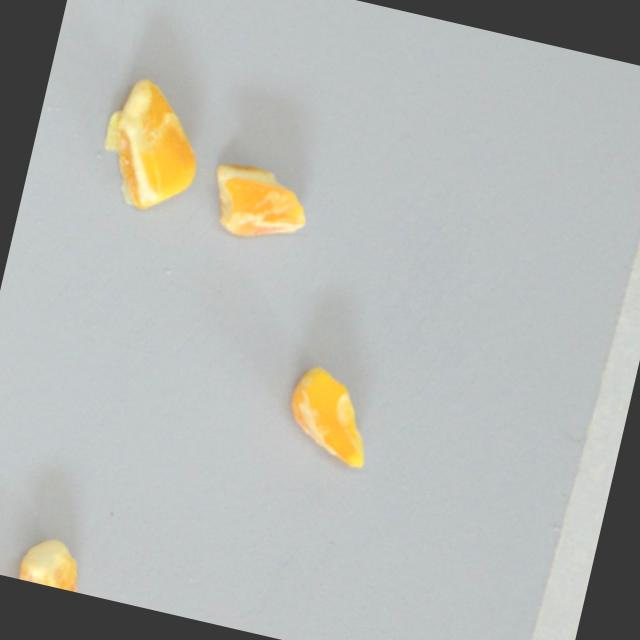pelicula: (88, 71, 212, 221), (276, 358, 385, 472), (204, 156, 317, 252), (16, 532, 90, 593)
